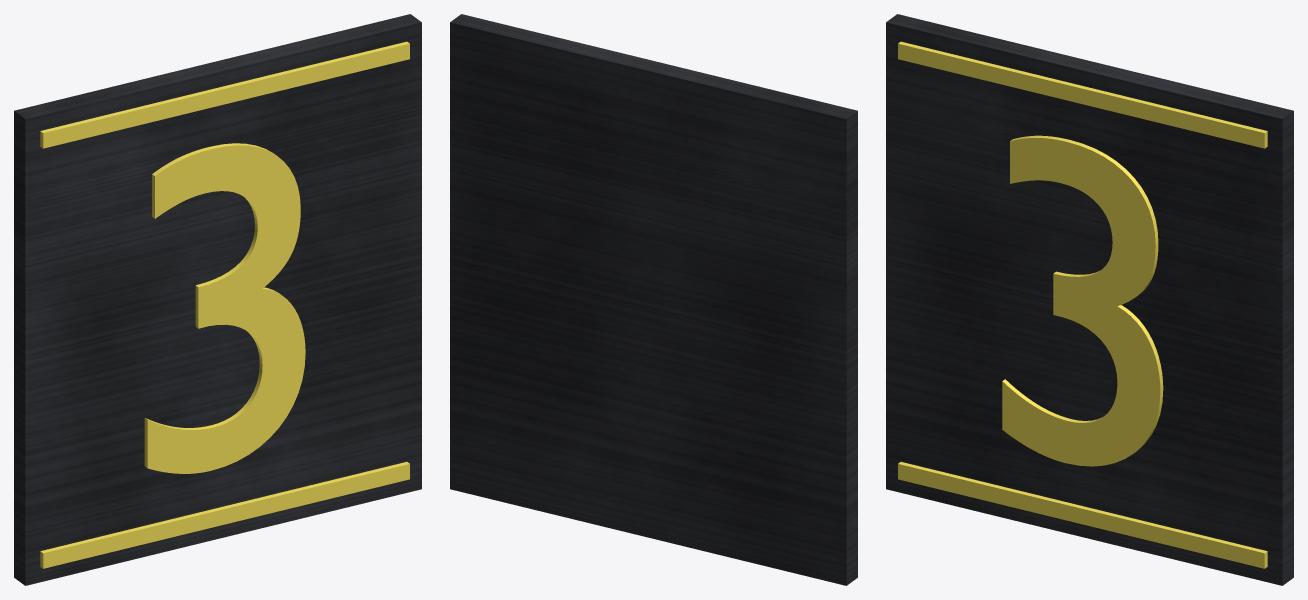
Rendered from Sign_Main_3.fbx.
3 views of the same model, side by side, from view 1: azimuth 30°, elevation 25°; view 2: azimuth 150°, elevation 25°; view 3: azimuth 330°, elevation 25° (orthographic).
Parts seen in each view (by area): view 1: Sign_Main_3; view 2: Sign_Main_3; view 3: Sign_Main_3.
Boxes of the visible parts, x1=… form: Sign_Main_3: x1=14, y1=14, x2=421, y2=585; Sign_Main_3: x1=450, y1=14, x2=857, y2=585; Sign_Main_3: x1=886, y1=14, x2=1293, y2=585.
Bounding box in the file's own units: 0.8 × 0.9 × 0.05.
2 materials, 1 textured.
